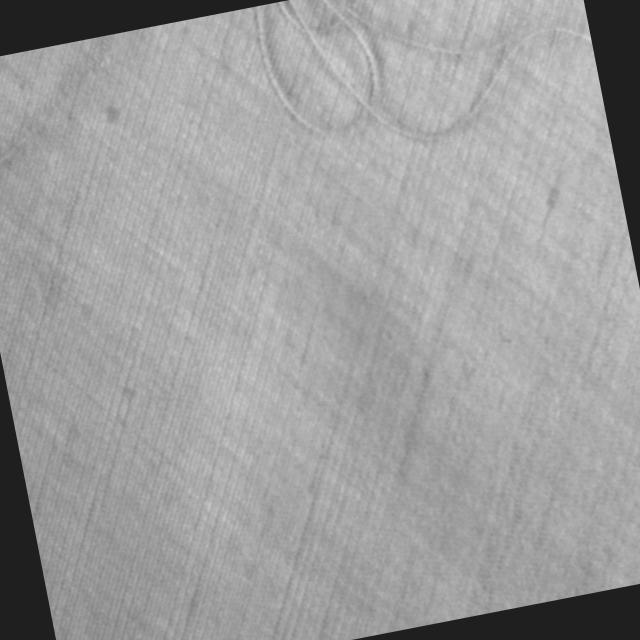objects: (248, 0, 606, 176), (0, 30, 157, 190)
